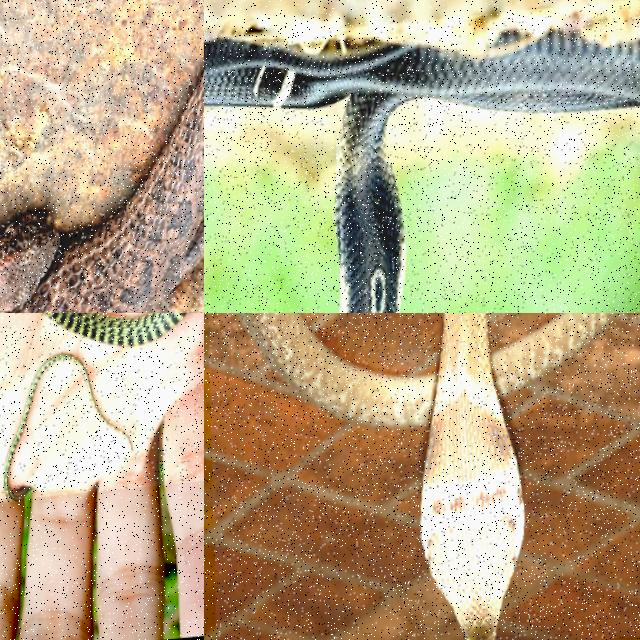Chrysopelea ornata: (4, 354, 122, 499)
Naja kaouthia: (238, 313, 616, 639), (204, 32, 639, 312)
Ovophis monticola: (0, 74, 203, 312)
